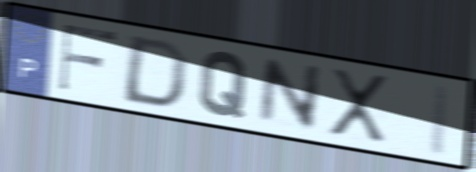D: (117, 33, 192, 110)
F: (55, 22, 121, 94)
I: (424, 80, 455, 159)
N: (255, 56, 327, 134)
Q: (195, 49, 251, 121)
X: (328, 65, 391, 146)
